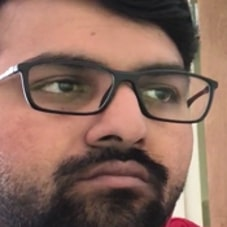awake: (21, 45, 190, 227)
